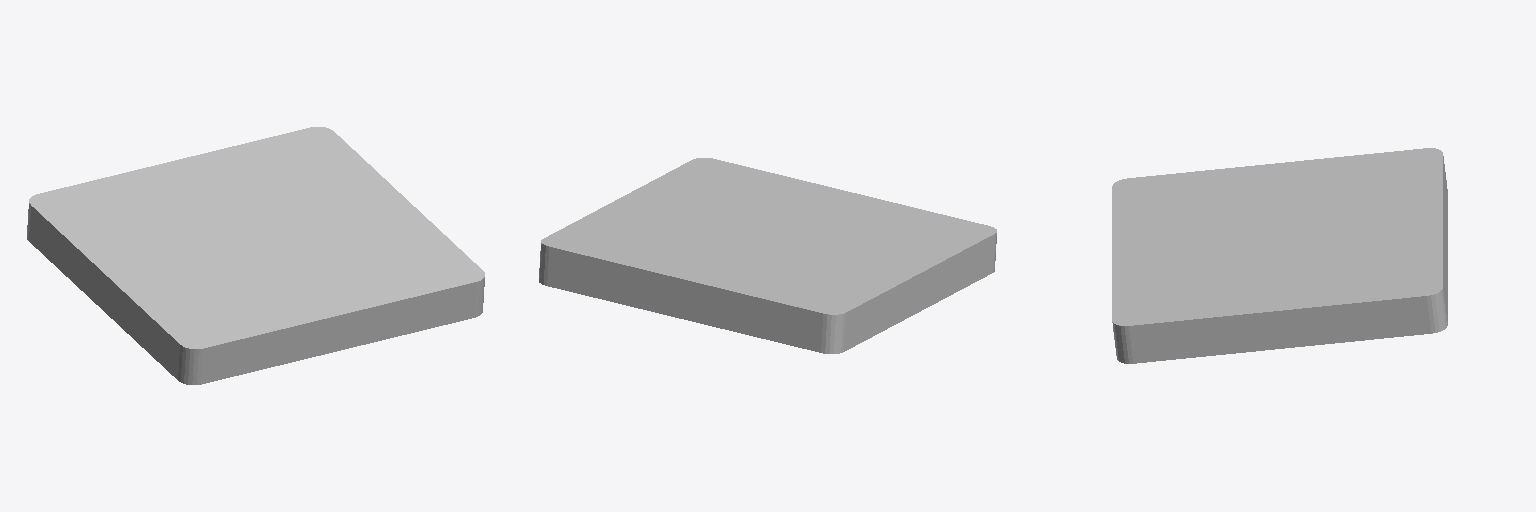
Rendered from original-19.obj.
3 views of the same model, side by side, from view 1: azimuth 30°, elevation 25°; view 2: azimuth 150°, elevation 25°; view 3: azimuth 270°, elevation 25° (orthographic).
Visible parts, largest first — view 1: mesh18/mesh18-geometry#mesh18-geometry; view 2: mesh18/mesh18-geometry#mesh18-geometry; view 3: mesh18/mesh18-geometry#mesh18-geometry.
Part boxes in pixels (x1,y1,x2,y2): mesh18/mesh18-geometry#mesh18-geometry: (27, 127, 484, 384); mesh18/mesh18-geometry#mesh18-geometry: (539, 158, 996, 353); mesh18/mesh18-geometry#mesh18-geometry: (1112, 148, 1447, 363).
Bounding box in the file's own units: 0.1061 × 0.0238 × 0.1019.